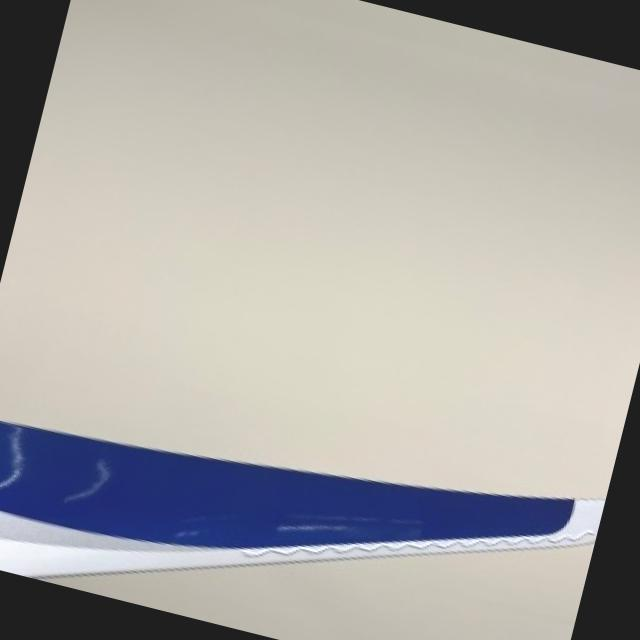healthy: (0, 418, 603, 575)
